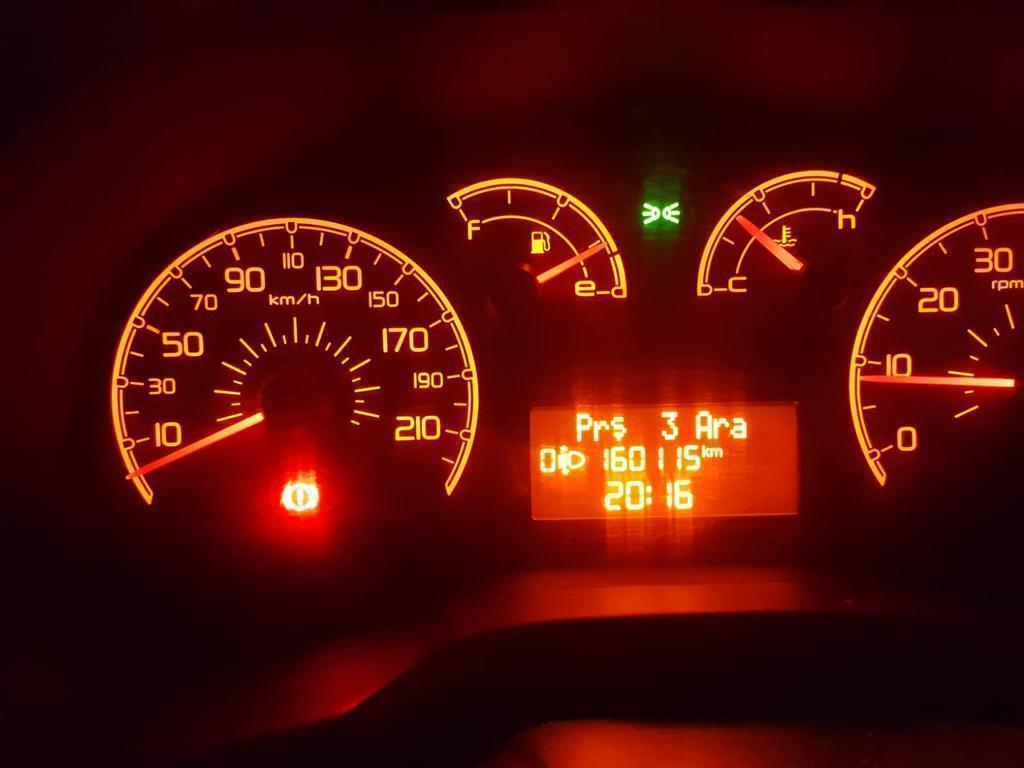0: (624, 479, 645, 511), (627, 444, 647, 472), (538, 446, 556, 473)
1: (656, 444, 666, 472), (663, 478, 672, 509), (674, 444, 683, 471), (601, 445, 609, 472)
2: (602, 479, 624, 512)
3: (658, 409, 680, 441)
5: (683, 442, 701, 472)
6: (673, 478, 694, 510), (610, 444, 627, 473)
X: (572, 411, 593, 443), (693, 409, 713, 440), (610, 414, 628, 442), (731, 415, 749, 440), (592, 418, 610, 442), (713, 415, 730, 440), (644, 484, 653, 506), (710, 446, 724, 458), (700, 443, 709, 458)
odometer: (524, 397, 804, 524)
